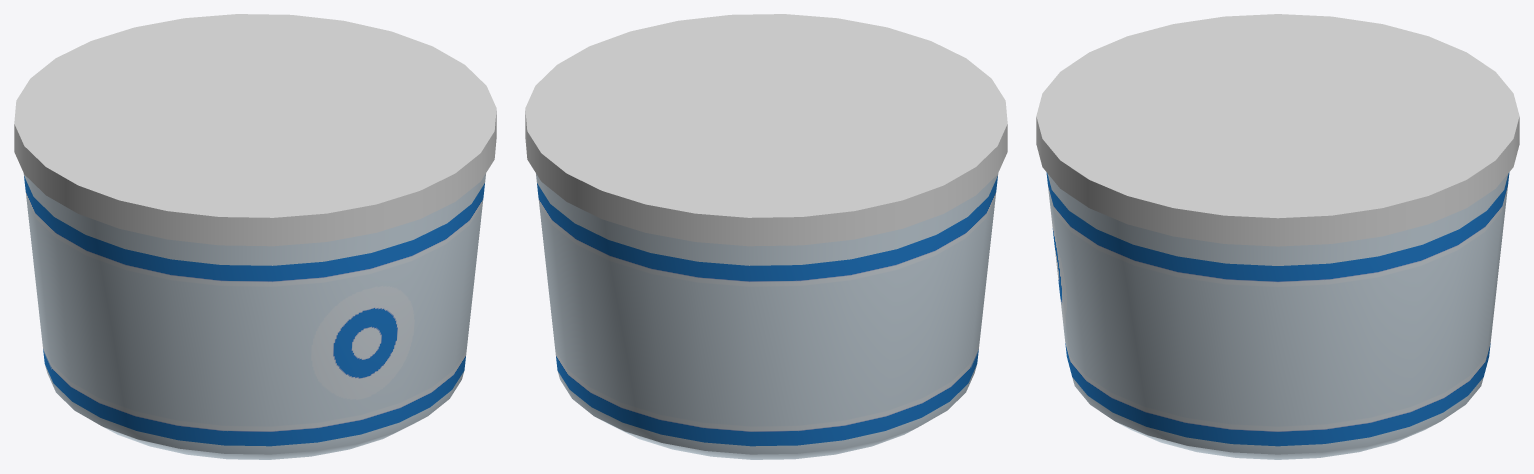
File: Cream_Cheese.fbx
3 renders of one model, left to right at view 1: azimuth 30°, elevation 25°; view 2: azimuth 150°, elevation 25°; view 3: azimuth 270°, elevation 25°, orthographic.
Visible parts, largest first — view 1: Cream_Cheese; view 2: Cream_Cheese; view 3: Cream_Cheese.
Boxes of the visible parts, x1,y1,x2,y2 form: Cream_Cheese: [14, 14, 496, 459]; Cream_Cheese: [525, 14, 1007, 459]; Cream_Cheese: [1036, 14, 1519, 459].
Size of the model in its own units: 0.0927 by 0.056 by 0.0927.
Materials: 3 (1 with a texture image).
